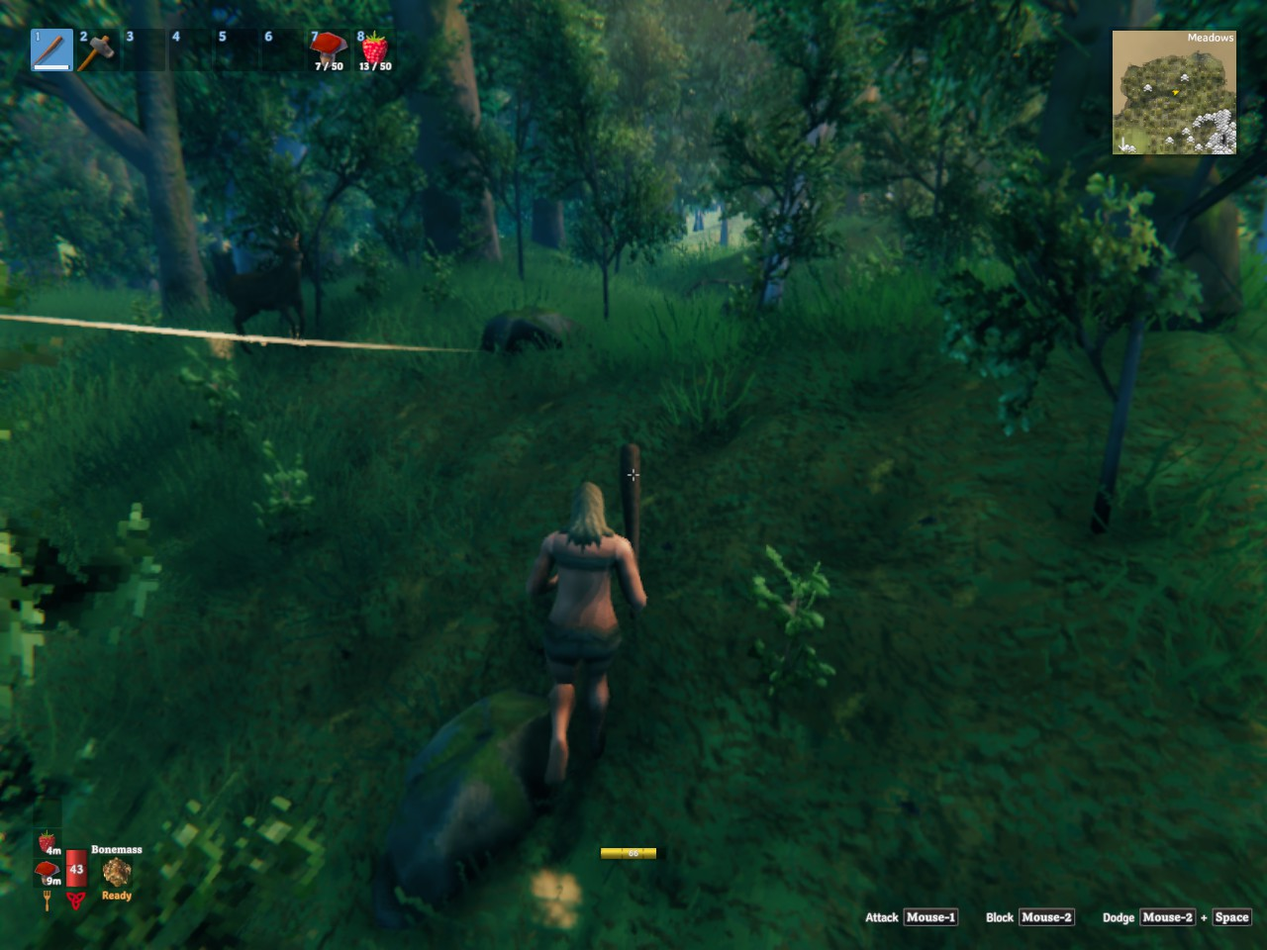Deer: (225, 234, 304, 335)
